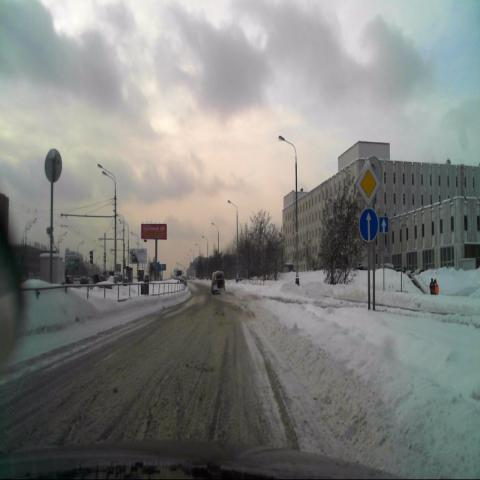2_1: (355, 159, 380, 208)
4_1_1: (358, 210, 379, 244)
5_5: (379, 214, 389, 232)
